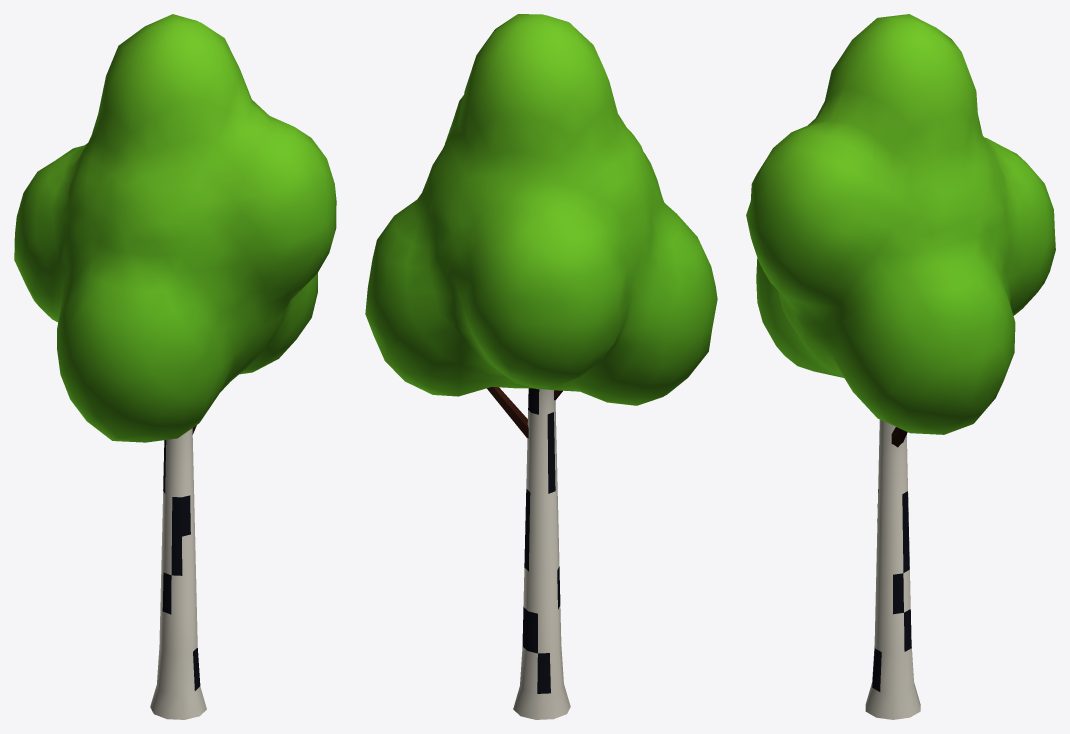
File: Tree_Birch.fbx
The picture shows the model from 3 angles, left to right: view 1: azimuth 30°, elevation 25°; view 2: azimuth 150°, elevation 25°; view 3: azimuth 270°, elevation 25°; orthographic projection.
Parts seen in each view (by area): view 1: Canopy, Tree_Birch; view 2: Canopy, Tree_Birch; view 3: Canopy, Tree_Birch.
Boxes of the visible parts, x1=… form: Canopy: x1=14, y1=14, x2=336, y2=442; Tree_Birch: x1=150, y1=425, x2=206, y2=719; Canopy: x1=365, y1=14, x2=717, y2=405; Tree_Birch: x1=487, y1=387, x2=570, y2=719; Canopy: x1=746, y1=14, x2=1055, y2=434; Tree_Birch: x1=865, y1=419, x2=920, y2=719.
Bounding box in the file's own units: 1.93 × 4.49 × 1.83.
